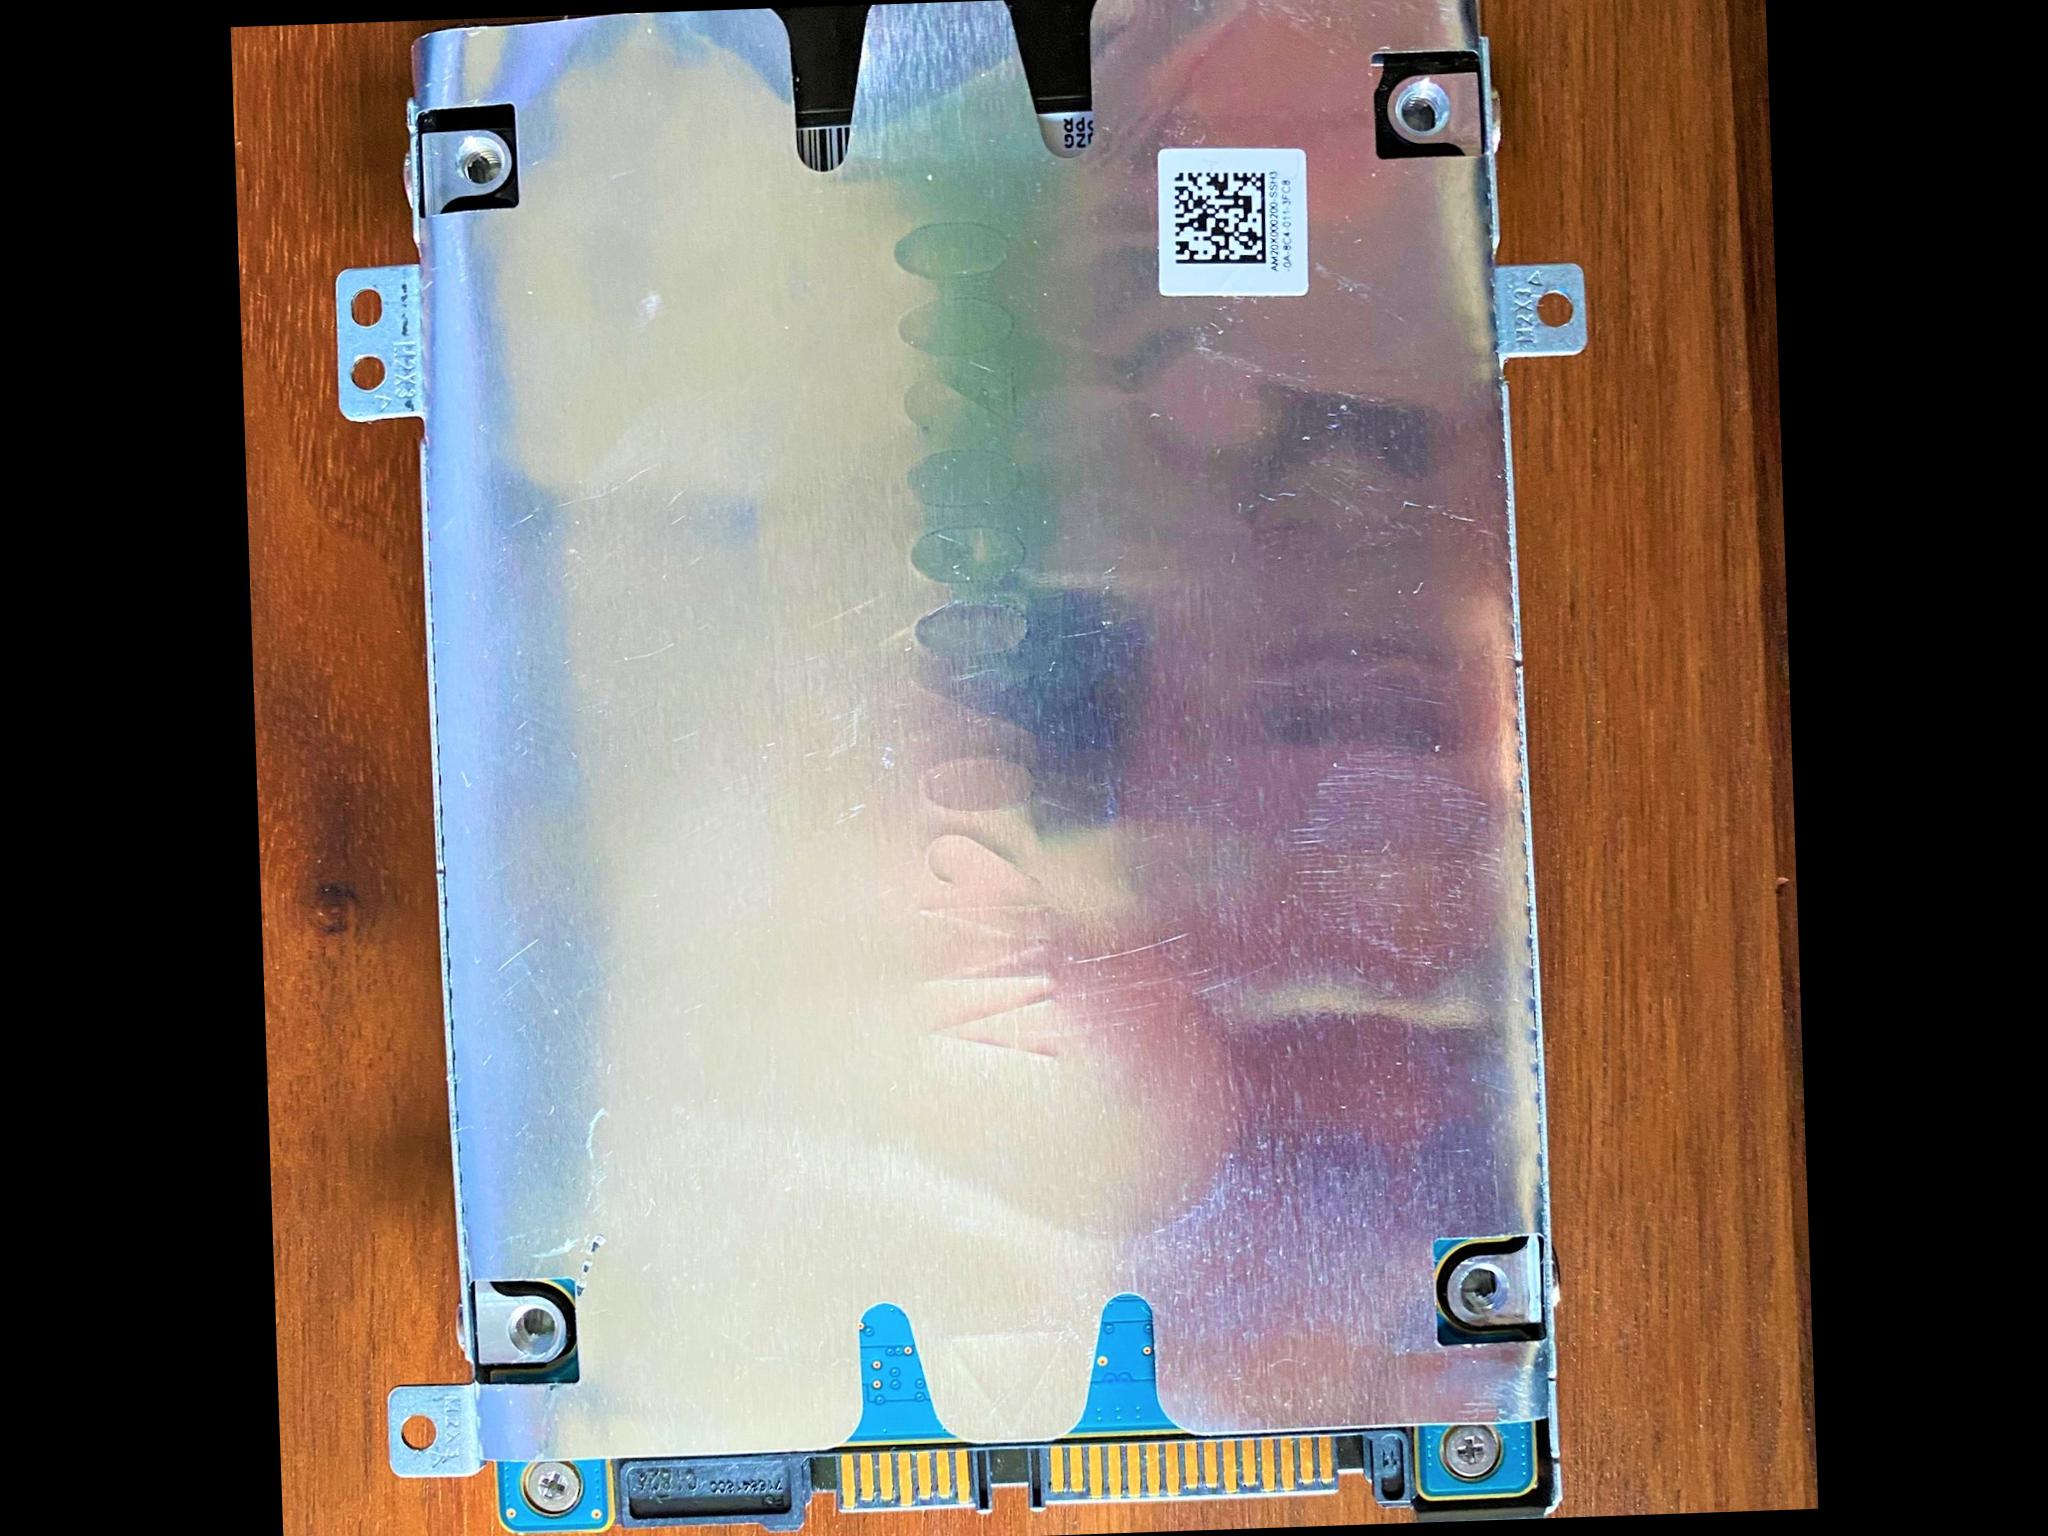PH: (1438, 1423, 1505, 1478), (521, 1460, 584, 1515)
